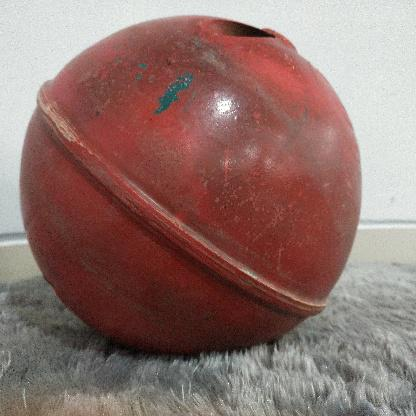red_buoy: (16, 16, 362, 356)
